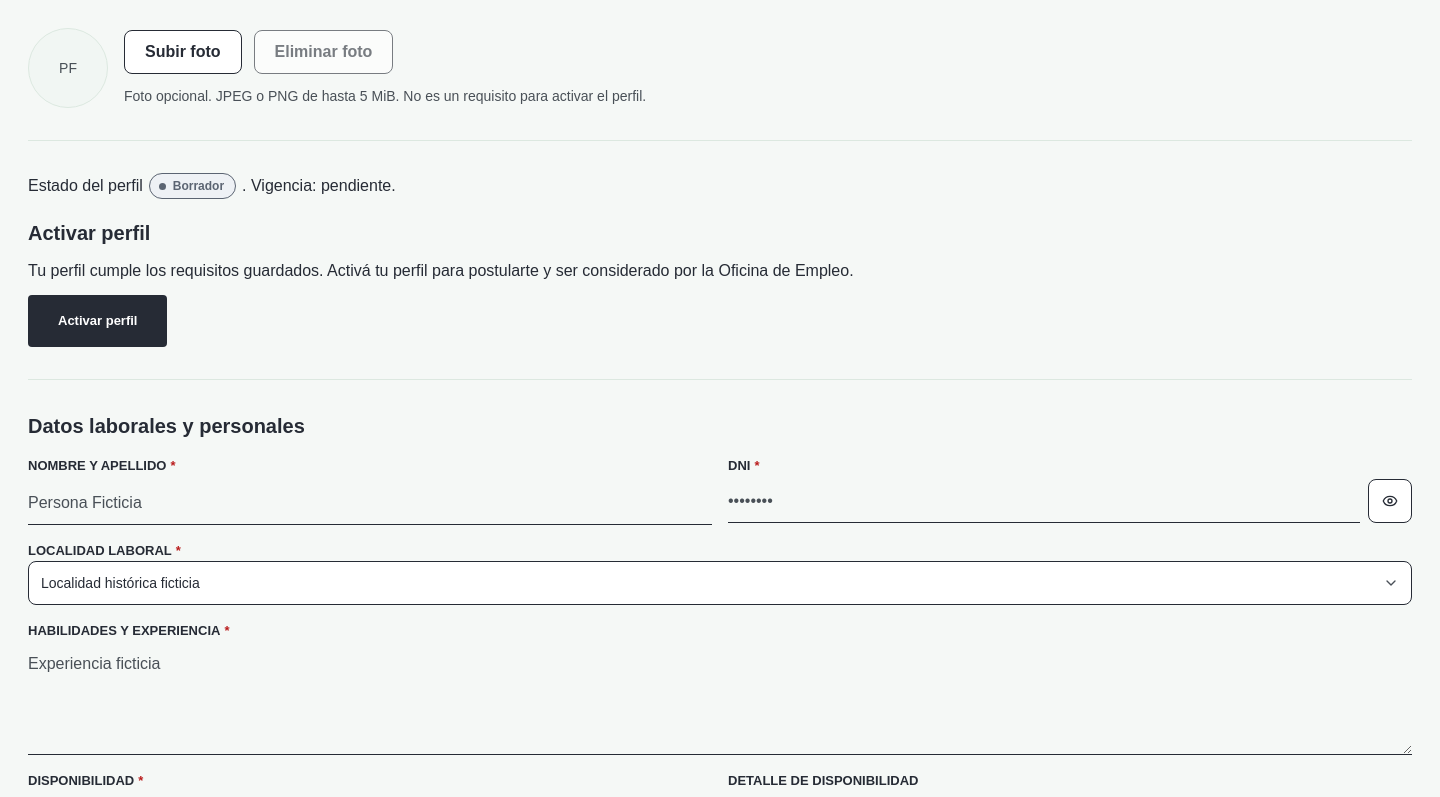
Scenario: localidad seleccionable del perfil › retiene una localidad histórica y permite elegir una localidad real del catálogo
The image size is (1440, 797).
Click the dropdown named "Localidad laboral" at (120, 582), box x1=28 y1=560 x2=1412 y2=604
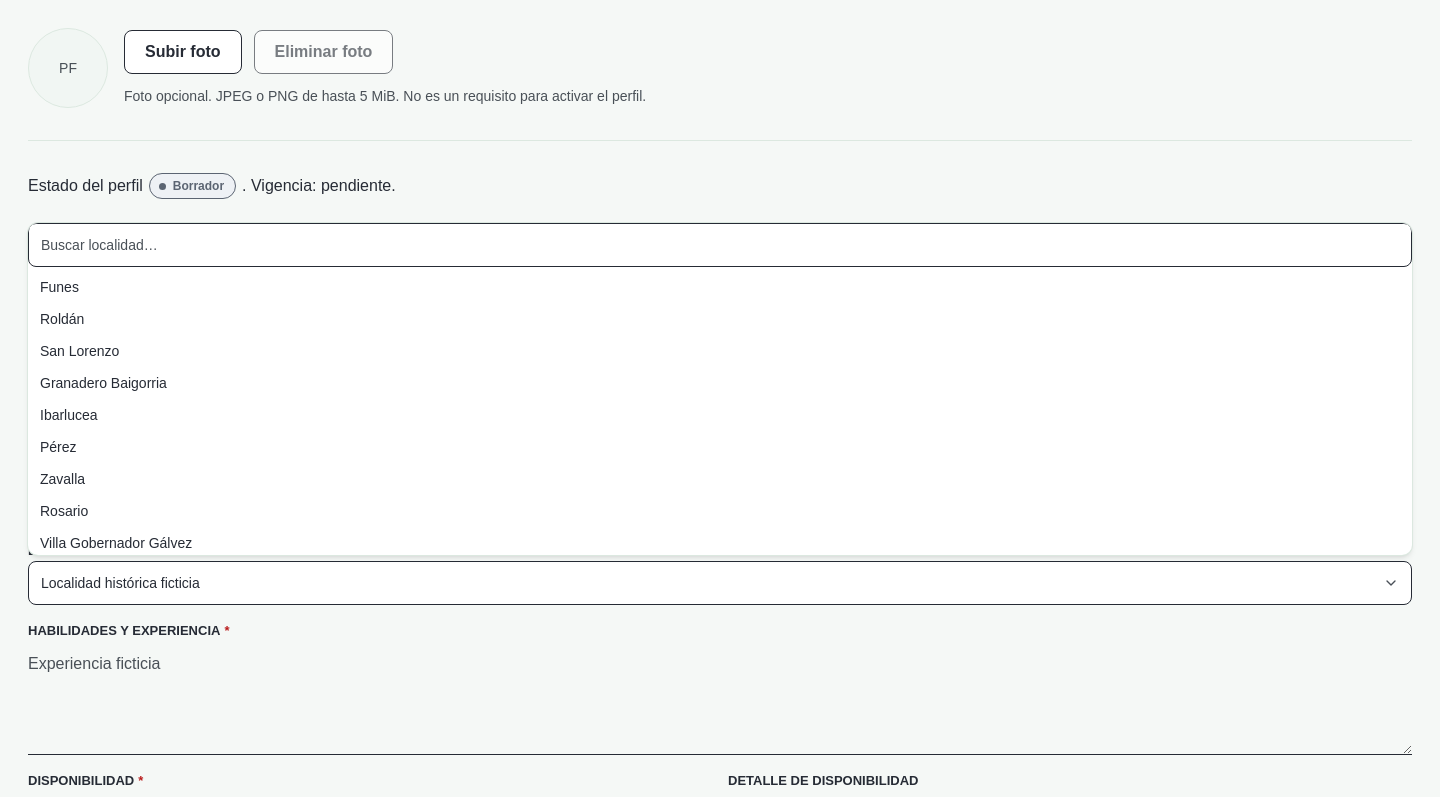
Type "Roldán" into the dropdown labelled "Buscar localidad" at (720, 245), box x1=41 y1=235 x2=1399 y2=255
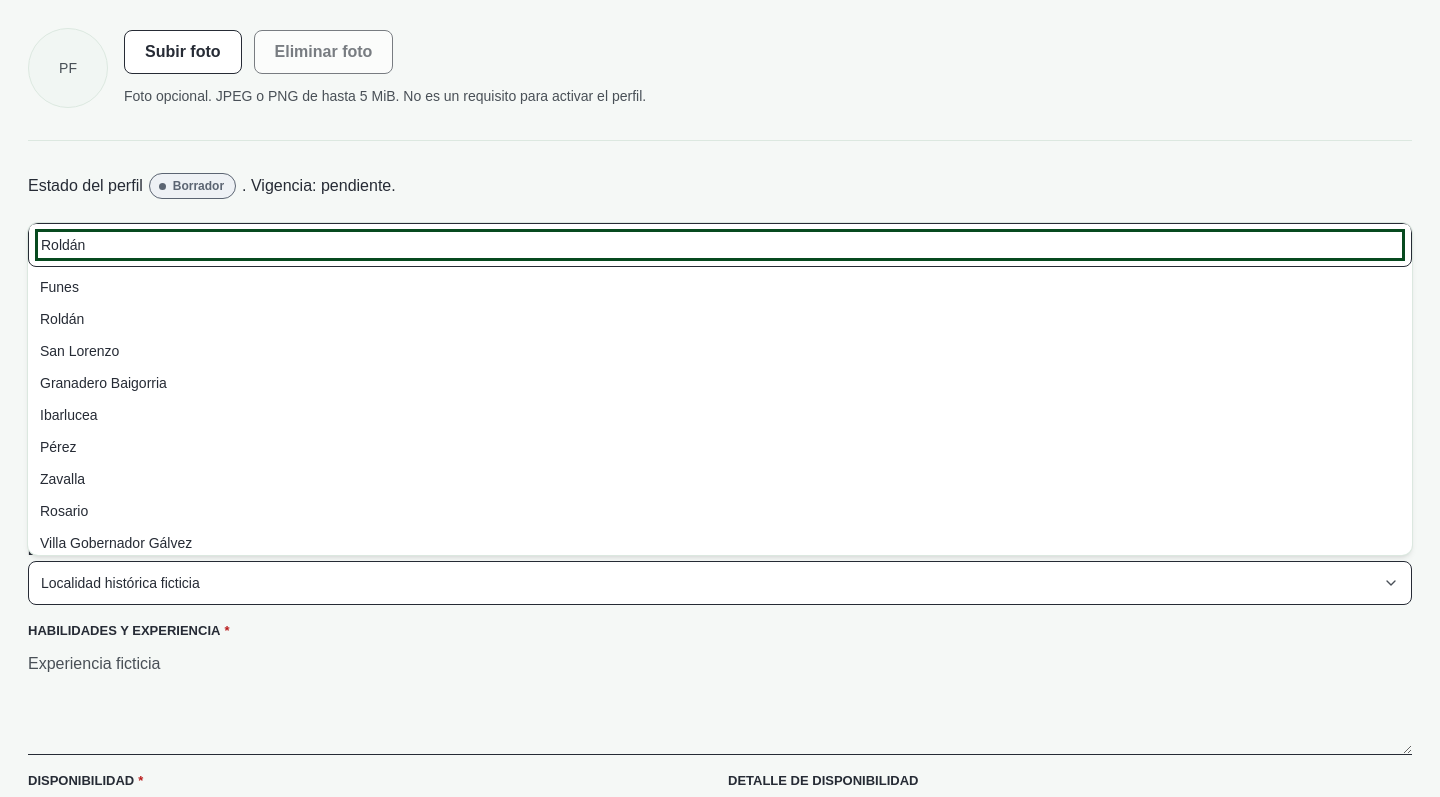
Click the option "Roldán" at (62, 319), box x1=40 y1=311 x2=84 y2=327
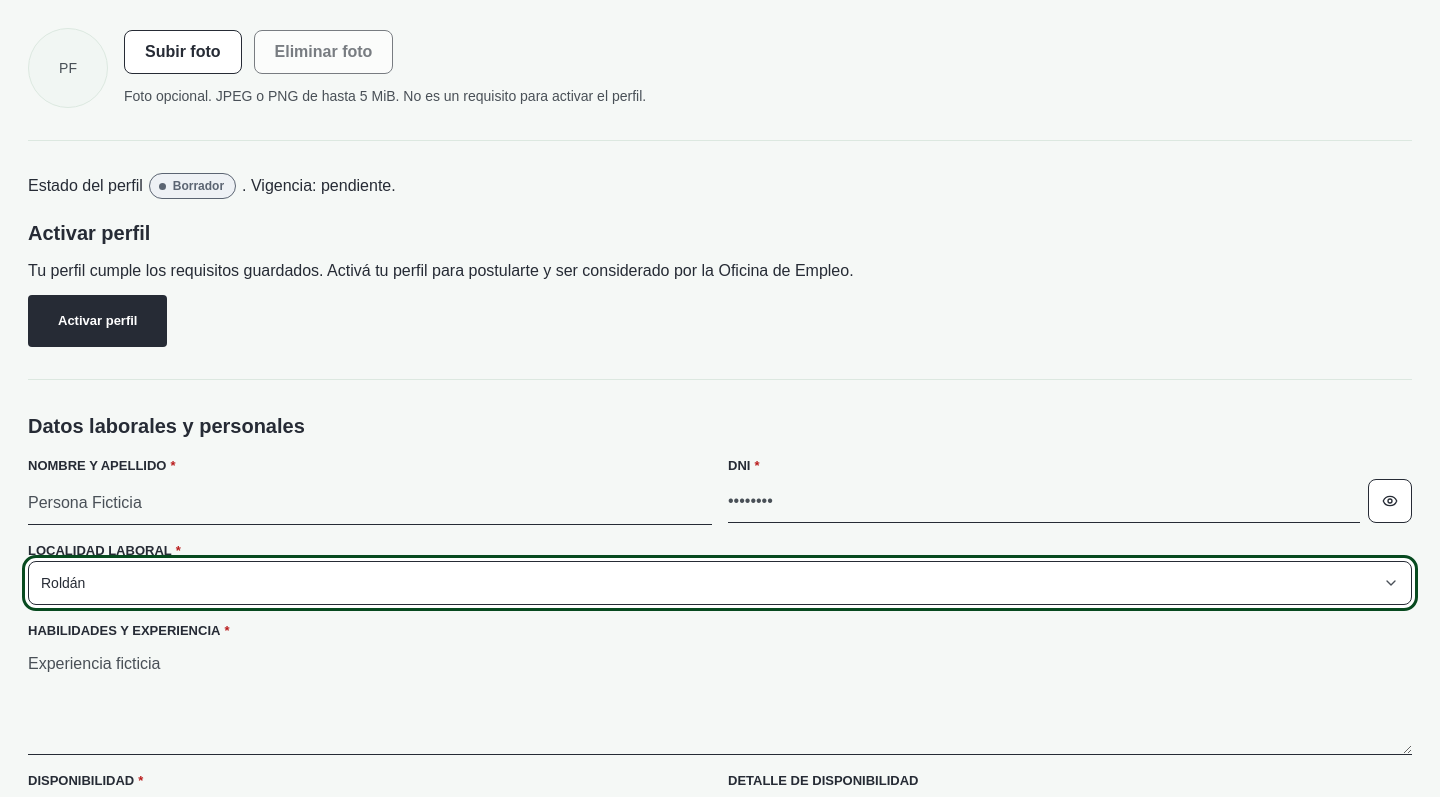
Result: the dropdown named "Localidad laboral" reads "Roldán" at x1=28 y1=560 x2=1412 y2=604
